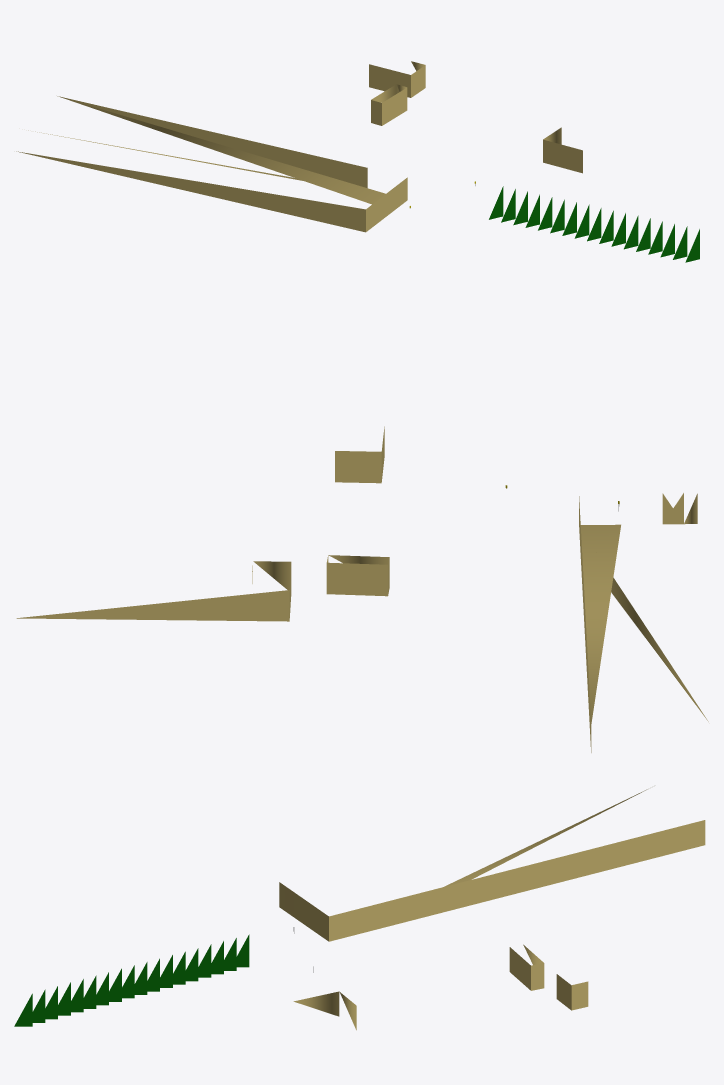
3 views of the same model, one above another, from view 1: azimuth 30°, elevation 25°; view 2: azimuth 150°, elevation 25°; view 3: azimuth 270°, elevation 25° (orthographic). The views are drawn at different scales.
Size of the model in its own units: 165 by 10 by 187.
